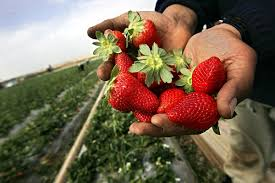strawberry: (166, 92, 220, 133), (106, 73, 159, 113), (189, 57, 228, 94), (131, 19, 162, 48)
